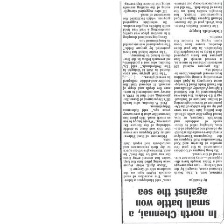news_paper: (102, 0, 224, 224)
